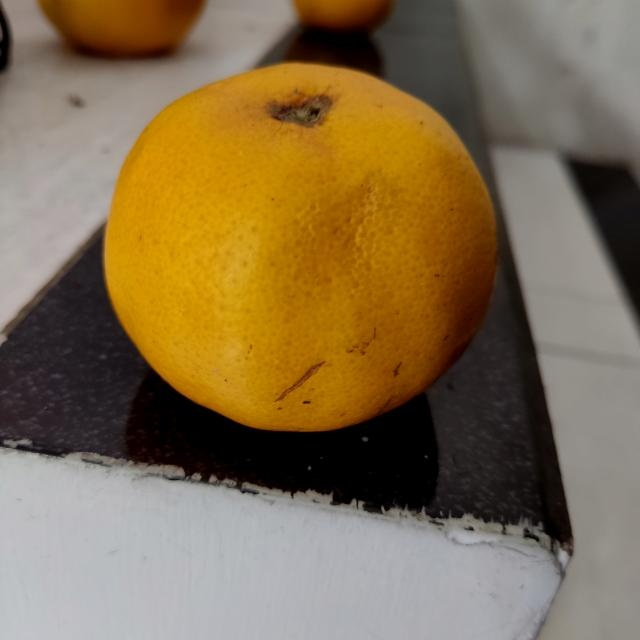agrume: (101, 59, 499, 432)
